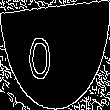O_N: (43, 28, 67, 82)
